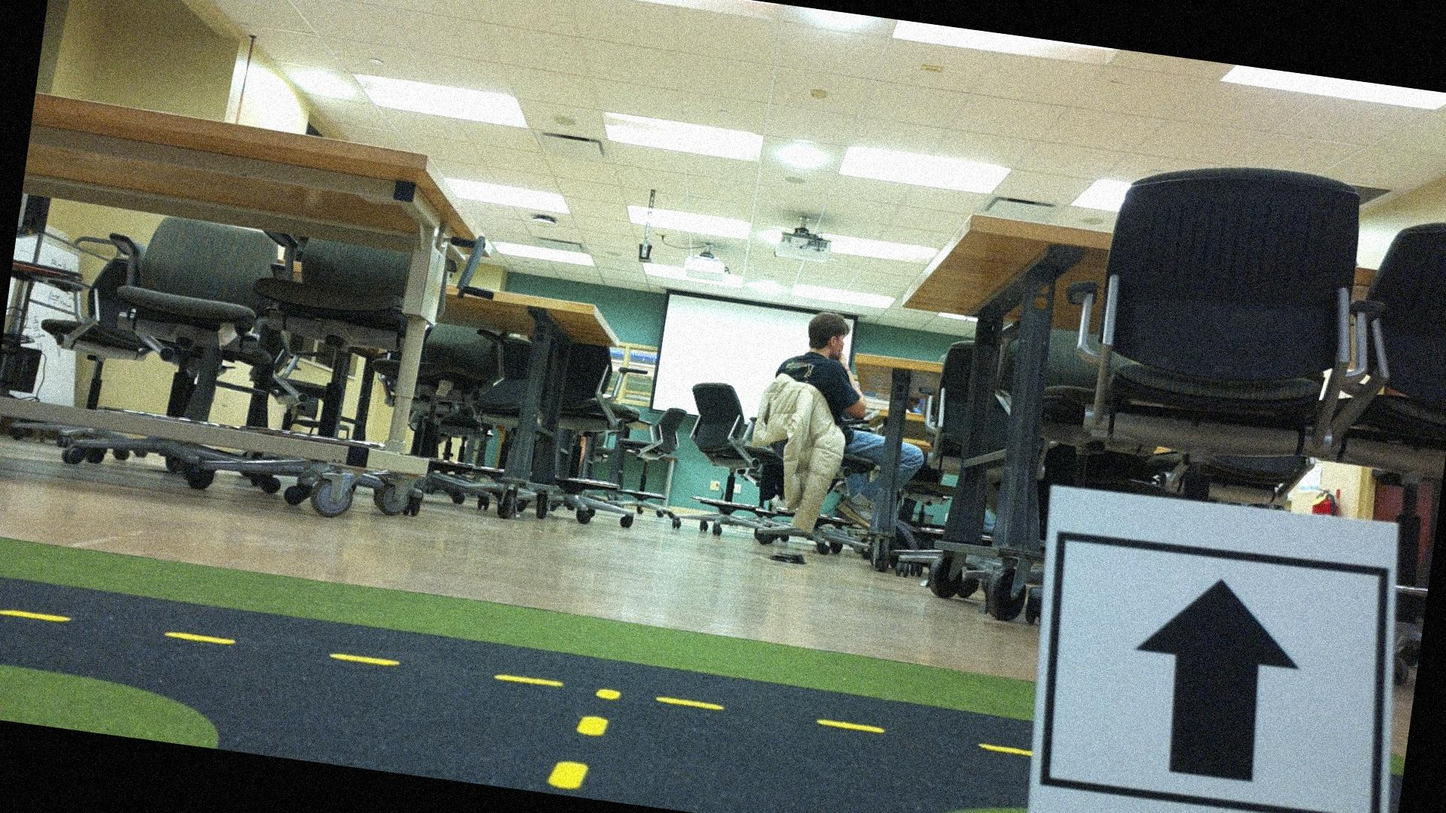gostraight: (1028, 484, 1400, 812)
yellowline: (0, 603, 1033, 758), (545, 676, 622, 796)
